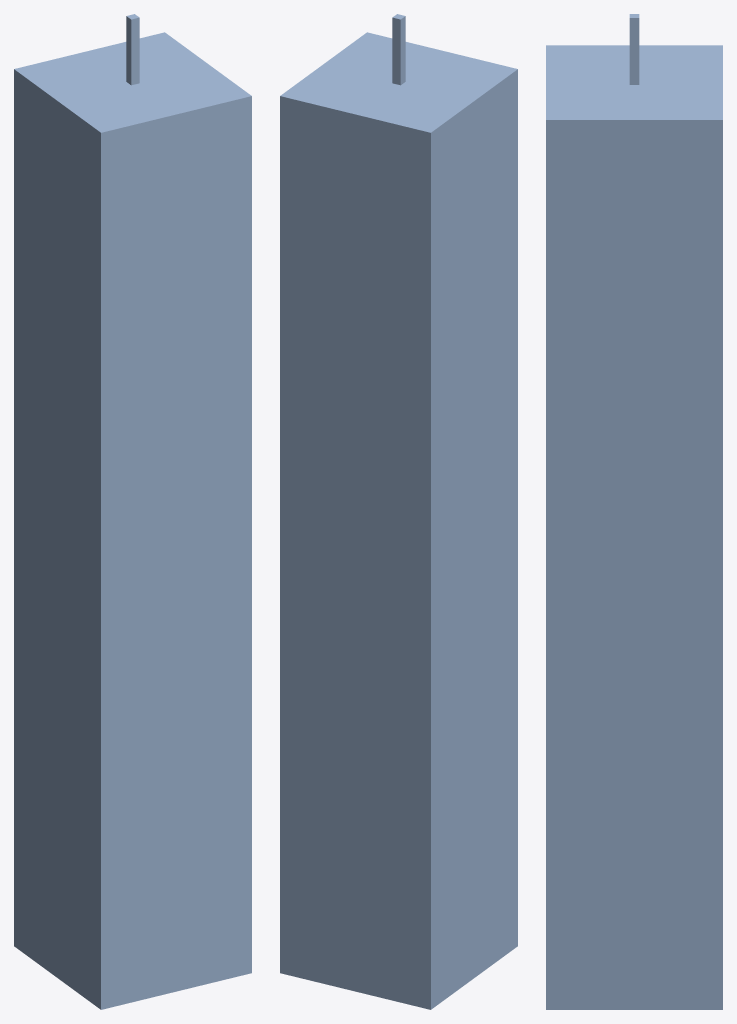
Rendered from sky_plain.glb.
3 renders of one model, left to right at view 1: azimuth 30°, elevation 25°; view 2: azimuth 150°, elevation 25°; view 3: azimuth 270°, elevation 25°, orthographic.
Parts seen in each view (by area): view 1: sky_plain; view 2: sky_plain; view 3: sky_plain.
Part boxes in pixels (box(x1,y1,x2,y2)): sky_plain: box(14, 14, 251, 1009); sky_plain: box(280, 14, 517, 1009); sky_plain: box(546, 14, 722, 1009).
Size of the model in its own units: 0.72 by 4.3 by 0.72.
